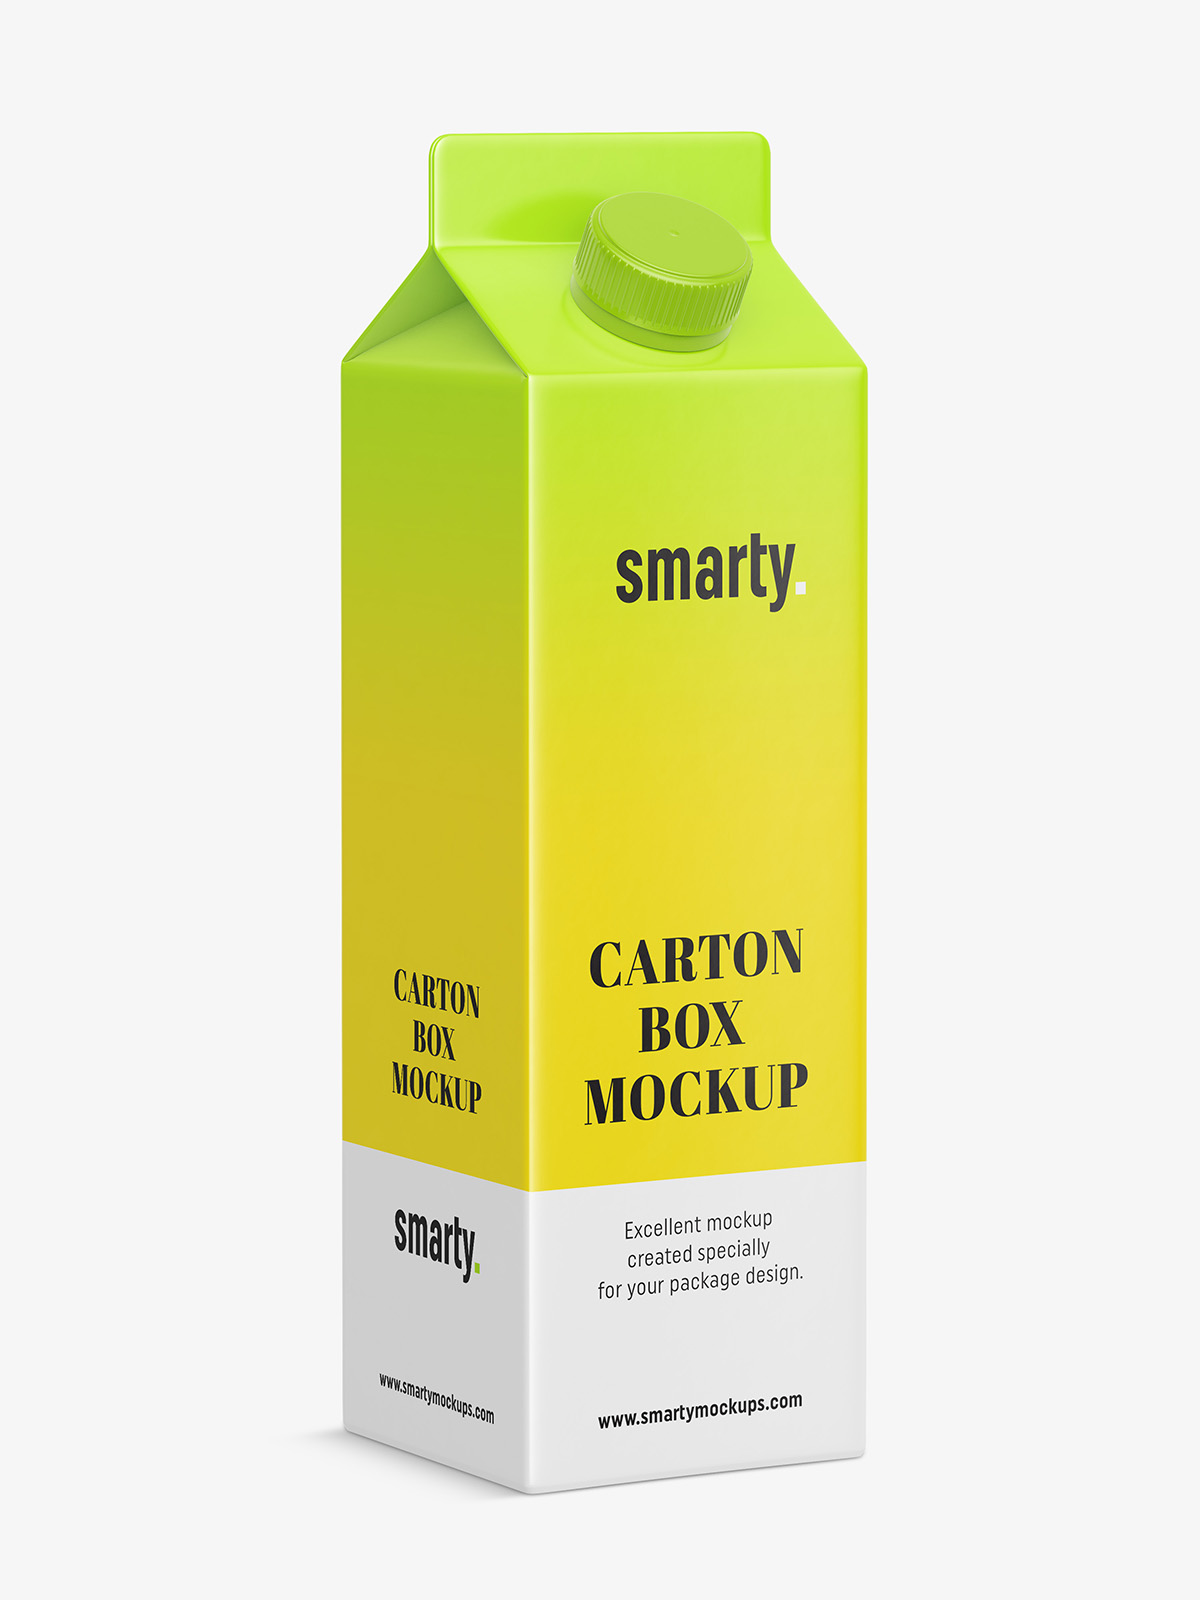Rec_Paper: (262, 81, 939, 1516)
